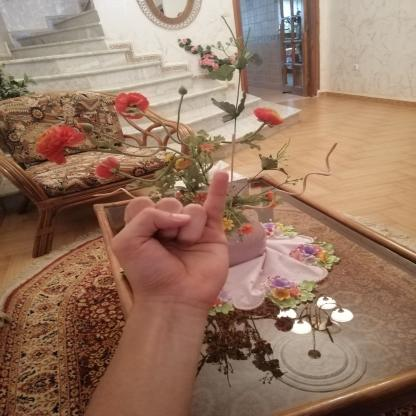MEEM: (89, 160, 253, 313)
